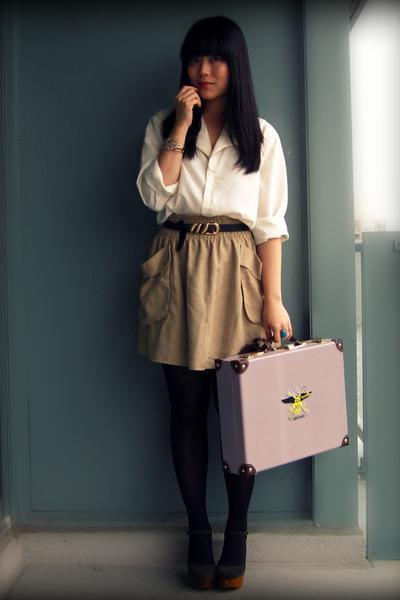short sleeve shirt: (130, 102, 298, 242)
skirt: (129, 212, 290, 375)
